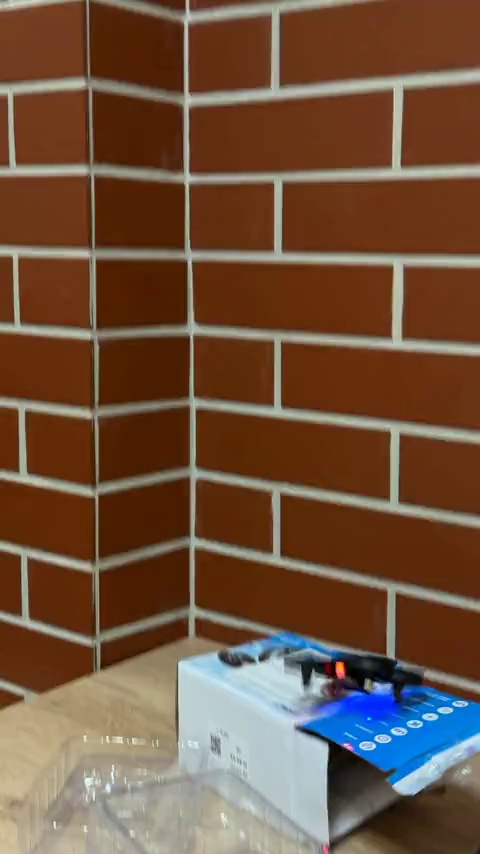drone: (291, 647, 429, 700)
